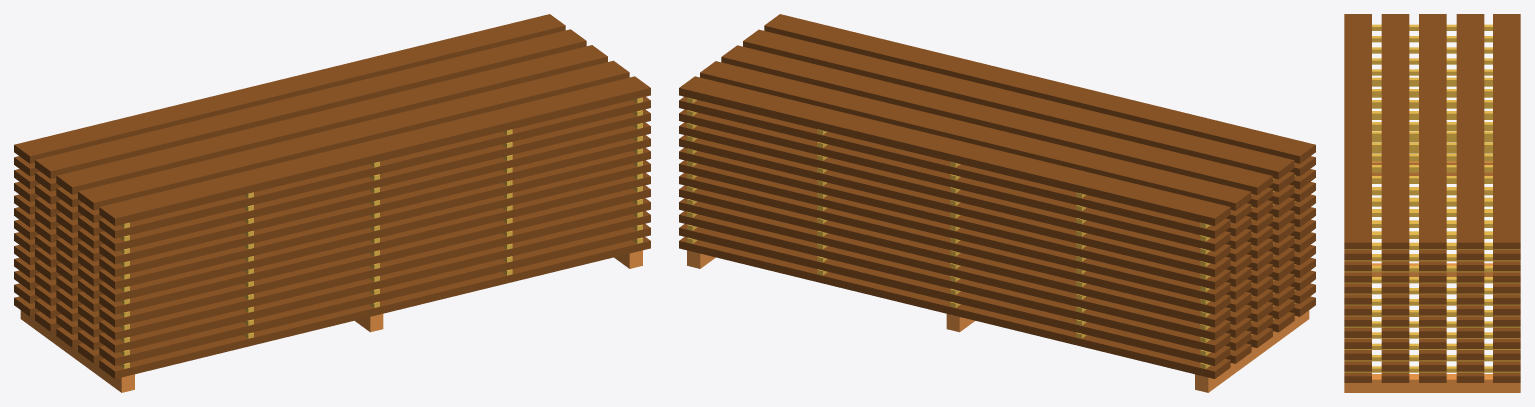
The model's file is Stacked_planks.glb.
3 views of the same model, side by side, from view 1: azimuth 30°, elevation 25°; view 2: azimuth 150°, elevation 25°; view 3: azimuth 270°, elevation 25° (orthographic). The views are drawn at different scales.
Visible parts, largest first — view 1: Cube.124, Cube.121, Cube.122, Cube.123, Cube.120, Cube.014, Cube.004, Cube.104, Cube.034, Cube.094, Cube.044, Cube.024 (+6 smaller); view 2: Cube.120, Cube.122, Cube.123, Cube.124, Cube.121, Cube.010, Cube, Cube.100, Cube.030, Cube.090, Cube.040, Cube.020 (+6 smaller); view 3: Cube.121, Cube.123, Cube.120, Cube.122, Cube.124, Cube.125, Cube.005, Cube.015, Cube.045, Cube.055, Cube.065, Cube.075 (+88 smaller).
Part boxes in pixels (box(x1,y1,x2,y2)): Cube.124: box(99, 76, 650, 225); Cube.121: box(35, 29, 586, 178); Cube.122: box(56, 45, 607, 194); Cube.123: box(78, 60, 629, 210); Cube.120: box(14, 14, 565, 163); Cube.014: box(99, 224, 650, 365); Cube.004: box(99, 237, 650, 378); Cube.104: box(99, 109, 650, 251); Cube.034: box(99, 198, 650, 340); Cube.094: box(99, 122, 650, 264); Cube.044: box(99, 185, 650, 327); Cube.024: box(99, 211, 650, 352); Cube.120: box(679, 76, 1230, 225); Cube.122: box(721, 45, 1272, 194); Cube.123: box(743, 29, 1294, 179); Cube.124: box(764, 14, 1315, 163); Cube.121: box(700, 61, 1251, 210); Cube.010: box(679, 224, 1230, 365); Cube: box(679, 237, 1230, 378); Cube.100: box(679, 109, 1230, 251); Cube.030: box(679, 198, 1230, 340); Cube.090: box(679, 122, 1230, 264); Cube.040: box(679, 185, 1230, 327); Cube.020: box(679, 211, 1230, 352); Cube.121: box(1456, 14, 1484, 249); Cube.123: box(1381, 14, 1409, 249); Cube.120: box(1493, 14, 1520, 249); Cube.122: box(1419, 14, 1446, 249); Cube.124: box(1344, 14, 1371, 249); Cube.125: box(1344, 374, 1520, 392); Cube.005: box(1344, 366, 1520, 372); Cube.015: box(1344, 355, 1520, 361); Cube.045: box(1344, 321, 1520, 327); Cube.055: box(1344, 310, 1520, 316); Cube.065: box(1344, 299, 1520, 305); Cube.075: box(1344, 288, 1520, 294).
Bounding box in the file's own units: 11.82 × 3.71 × 3.86.
